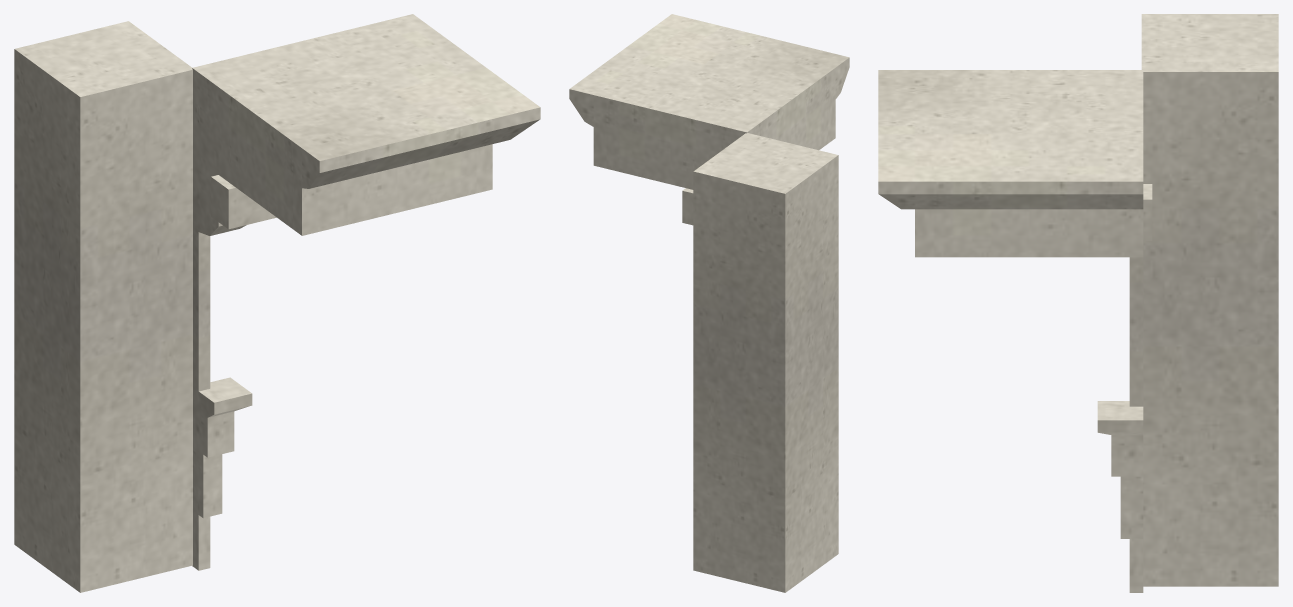
The model's file is ent_corner.glb.
The picture shows the model from 3 angles, left to right: view 1: azimuth 30°, elevation 25°; view 2: azimuth 150°, elevation 25°; view 3: azimuth 270°, elevation 25°; orthographic projection. The views are drawn at different scales.
Visible parts, largest first — view 1: ent_corner_carve; view 2: ent_corner_carve; view 3: ent_corner_carve.
Part boxes in pixels (box(x1,y1,x2,y2)): ent_corner_carve: box(14, 14, 540, 592); ent_corner_carve: box(569, 14, 849, 592); ent_corner_carve: box(878, 14, 1278, 592).
Size of the model in its own units: 0.876 by 1.25 by 0.876.
Materials: 1 (1 with a texture image).
